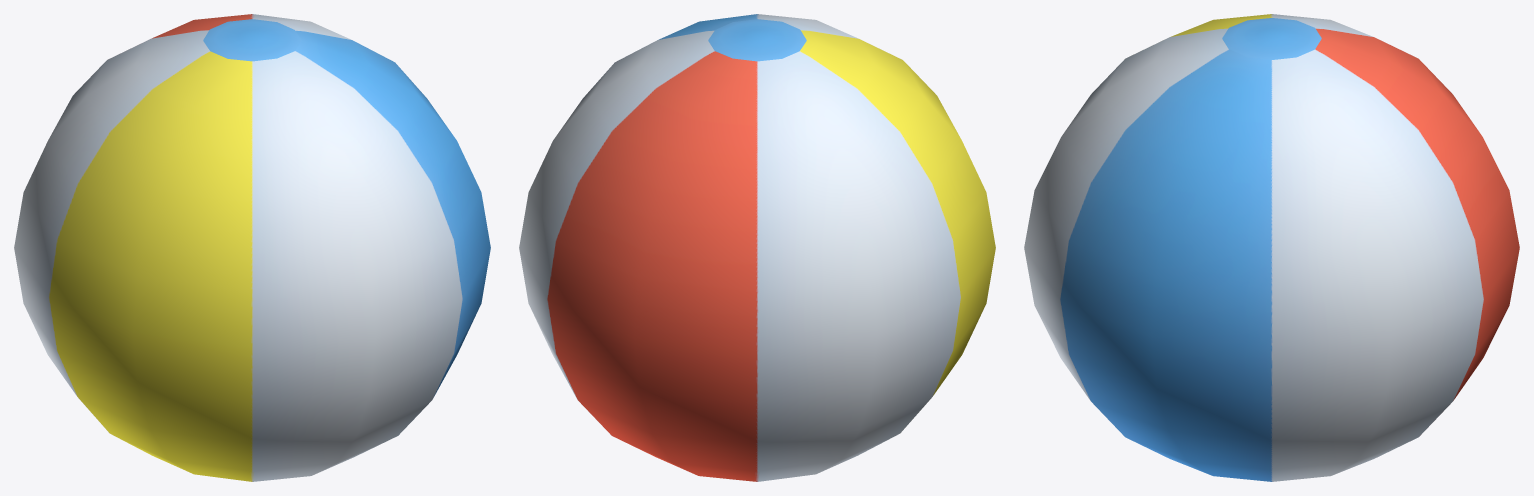
File: BeachBall.FBX
3 renders of one model, left to right at view 1: azimuth 30°, elevation 25°; view 2: azimuth 150°, elevation 25°; view 3: azimuth 270°, elevation 25°, orthographic.
Parts seen in each view (by area): view 1: BeachBall; view 2: BeachBall; view 3: BeachBall.
Boxes of the visible parts, box(x1,y1,x2,y2) form: BeachBall: box(14, 14, 490, 481); BeachBall: box(519, 14, 995, 481); BeachBall: box(1024, 14, 1519, 481).
Bounding box in the file's own units: 3.69 × 3.68 × 3.86.
